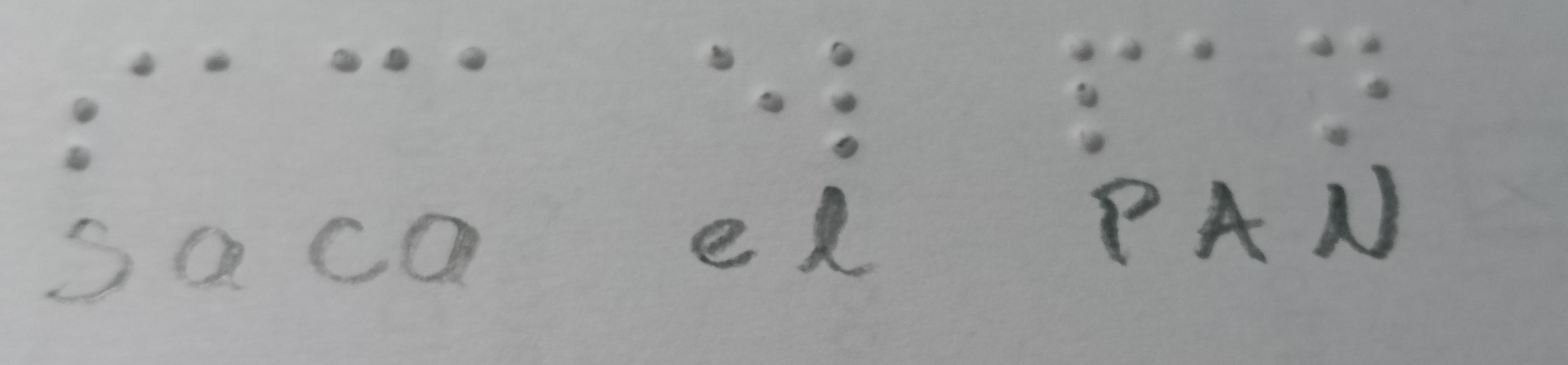a: (164, 25, 264, 123), (1166, 27, 1258, 117), (425, 23, 520, 107)
c: (290, 25, 434, 136)
e: (681, 27, 803, 188)
l: (811, 35, 899, 167)
n: (1292, 25, 1409, 152)
p: (1038, 32, 1154, 173)
s: (34, 39, 169, 201)
